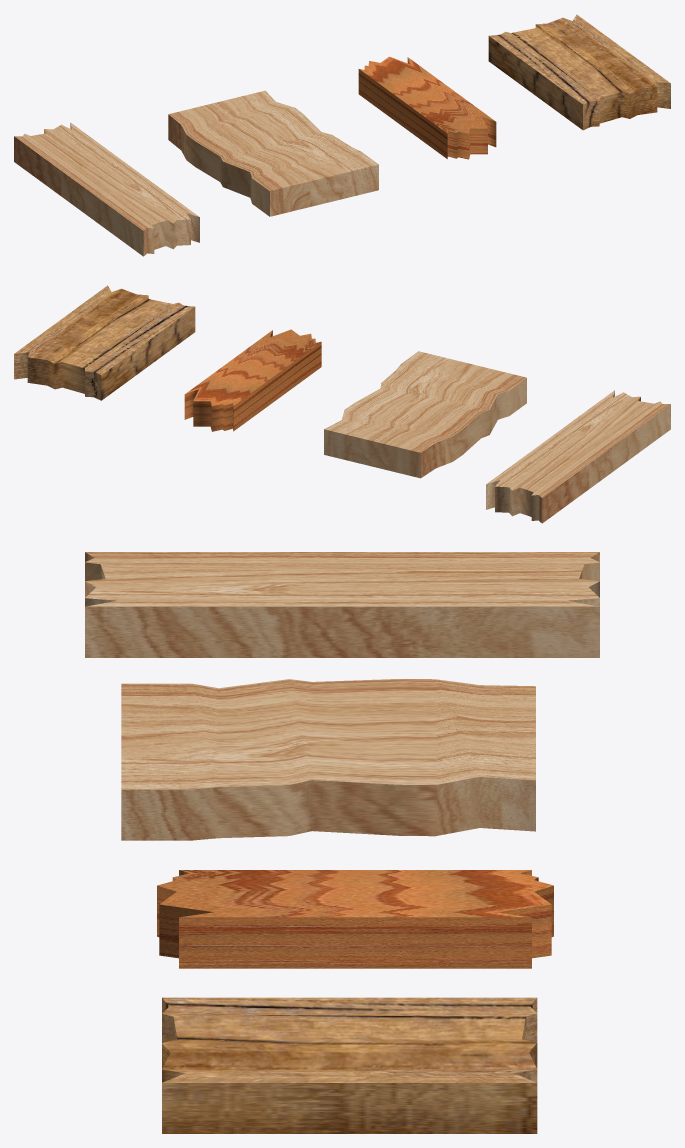
File: mutou_fbx.fbx
The picture shows the model from 3 angles, top to bottom: view 1: azimuth 30°, elevation 25°; view 2: azimuth 150°, elevation 25°; view 3: azimuth 270°, elevation 25°; orthographic projection. The views are drawn at different scales.
Visible parts, largest first — view 1: pCube1, pCube3, pCube2, pCube4; view 2: pCube1, pCube3, pCube2, pCube4; view 3: pCube1, pCube2, pCube3, pCube4.
Boxes of the visible parts, x1,y1,x2,y2 form: pCube1: [168, 90, 378, 216]; pCube3: [488, 14, 670, 130]; pCube2: [14, 122, 199, 256]; pCube4: [358, 56, 496, 159]; pCube1: [324, 351, 526, 478]; pCube3: [14, 285, 195, 400]; pCube2: [486, 390, 670, 523]; pCube4: [184, 329, 321, 431]; pCube1: [121, 679, 535, 840]; pCube2: [85, 552, 599, 657]; pCube3: [162, 997, 537, 1133]; pCube4: [157, 870, 553, 968].
Bounding box in the file's own units: 22.28 × 1 × 9.14.
Materials: 3 (3 with a texture image).
